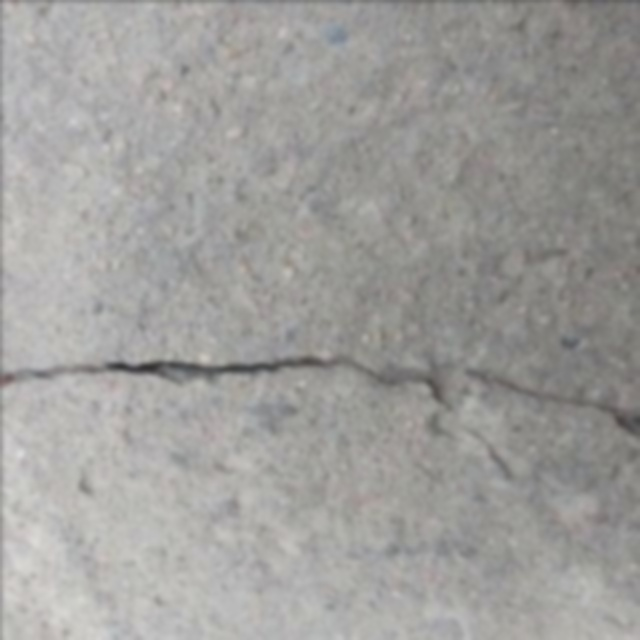SurfaceCrack: (0, 334, 638, 438)
